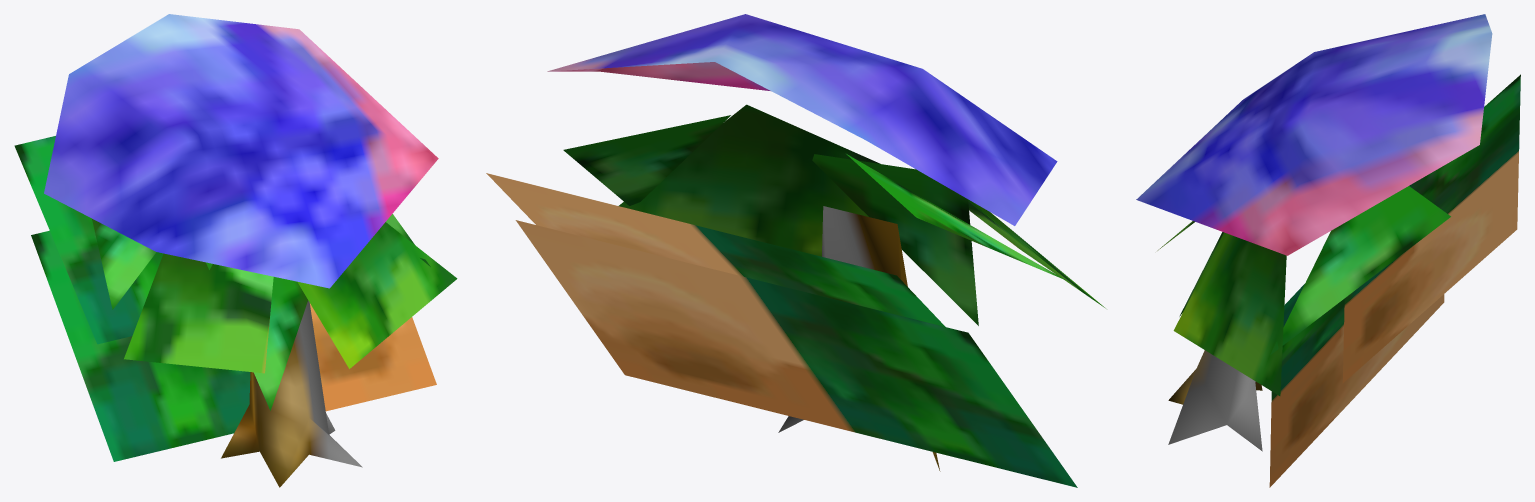
File: fg_bushD_1_s.dae
3 views of the same model, side by side, from view 1: azimuth 30°, elevation 25°; view 2: azimuth 150°, elevation 25°; view 3: azimuth 270°, elevation 25° (orthographic). The views are drawn at different scales.
Visible parts, largest first — view 1: fg_bushD_1_s; view 2: fg_bushD_1_s; view 3: fg_bushD_1_s.
Boxes of the visible parts, left/top/right/bottom form: fg_bushD_1_s: left=14, top=14, right=457, bottom=487; fg_bushD_1_s: left=486, top=14, right=1105, bottom=487; fg_bushD_1_s: left=1136, top=14, right=1520, bottom=487.
Size of the model in its own units: 30.89 by 29.19 by 26.27.
1 material, 1 textured.
